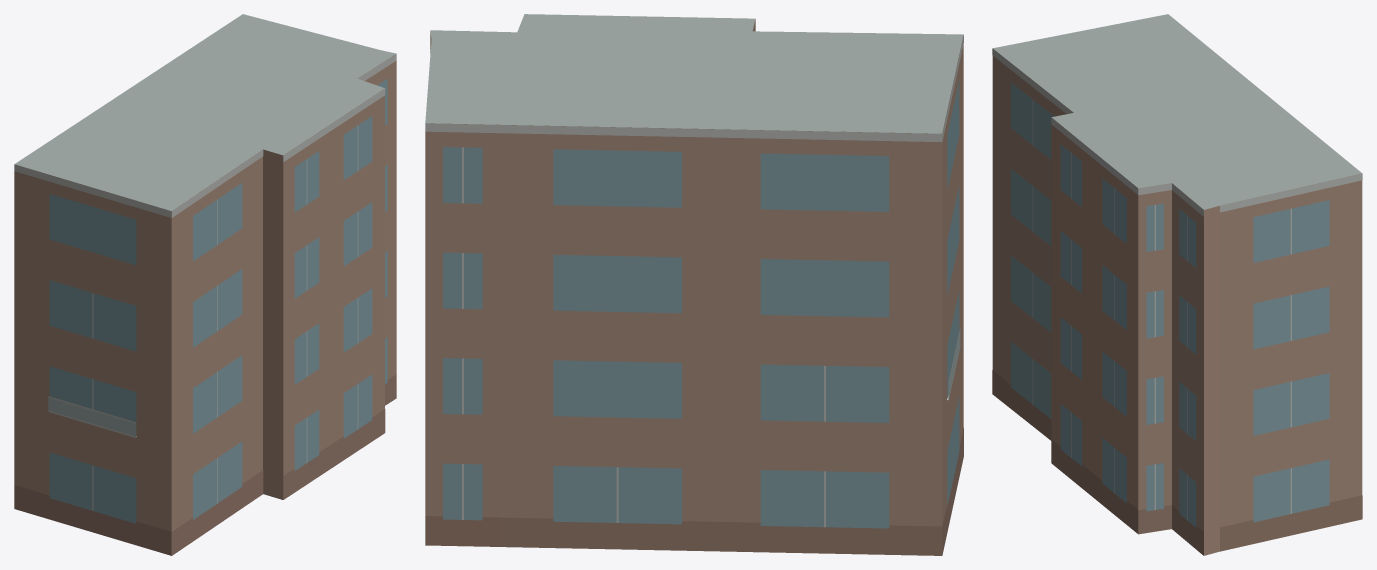
The model's file is survey-upis-32681902.glb.
3 renders of one model, left to right at view 1: azimuth 30°, elevation 25°; view 2: azimuth 150°, elevation 25°; view 3: azimuth 270°, elevation 25°, orthographic. The views are drawn at different scales.
Parts seen in each view (by area): view 1: survey-upis-32681902.tmp; view 2: survey-upis-32681902.tmp; view 3: survey-upis-32681902.tmp.
Boxes of the visible parts, <box> form: survey-upis-32681902.tmp: <box>14,14,396,555</box>; survey-upis-32681902.tmp: <box>425,14,963,555</box>; survey-upis-32681902.tmp: <box>992,14,1362,555</box>.
Size of the model in its own units: 14.83 by 12.2 by 11.83.
